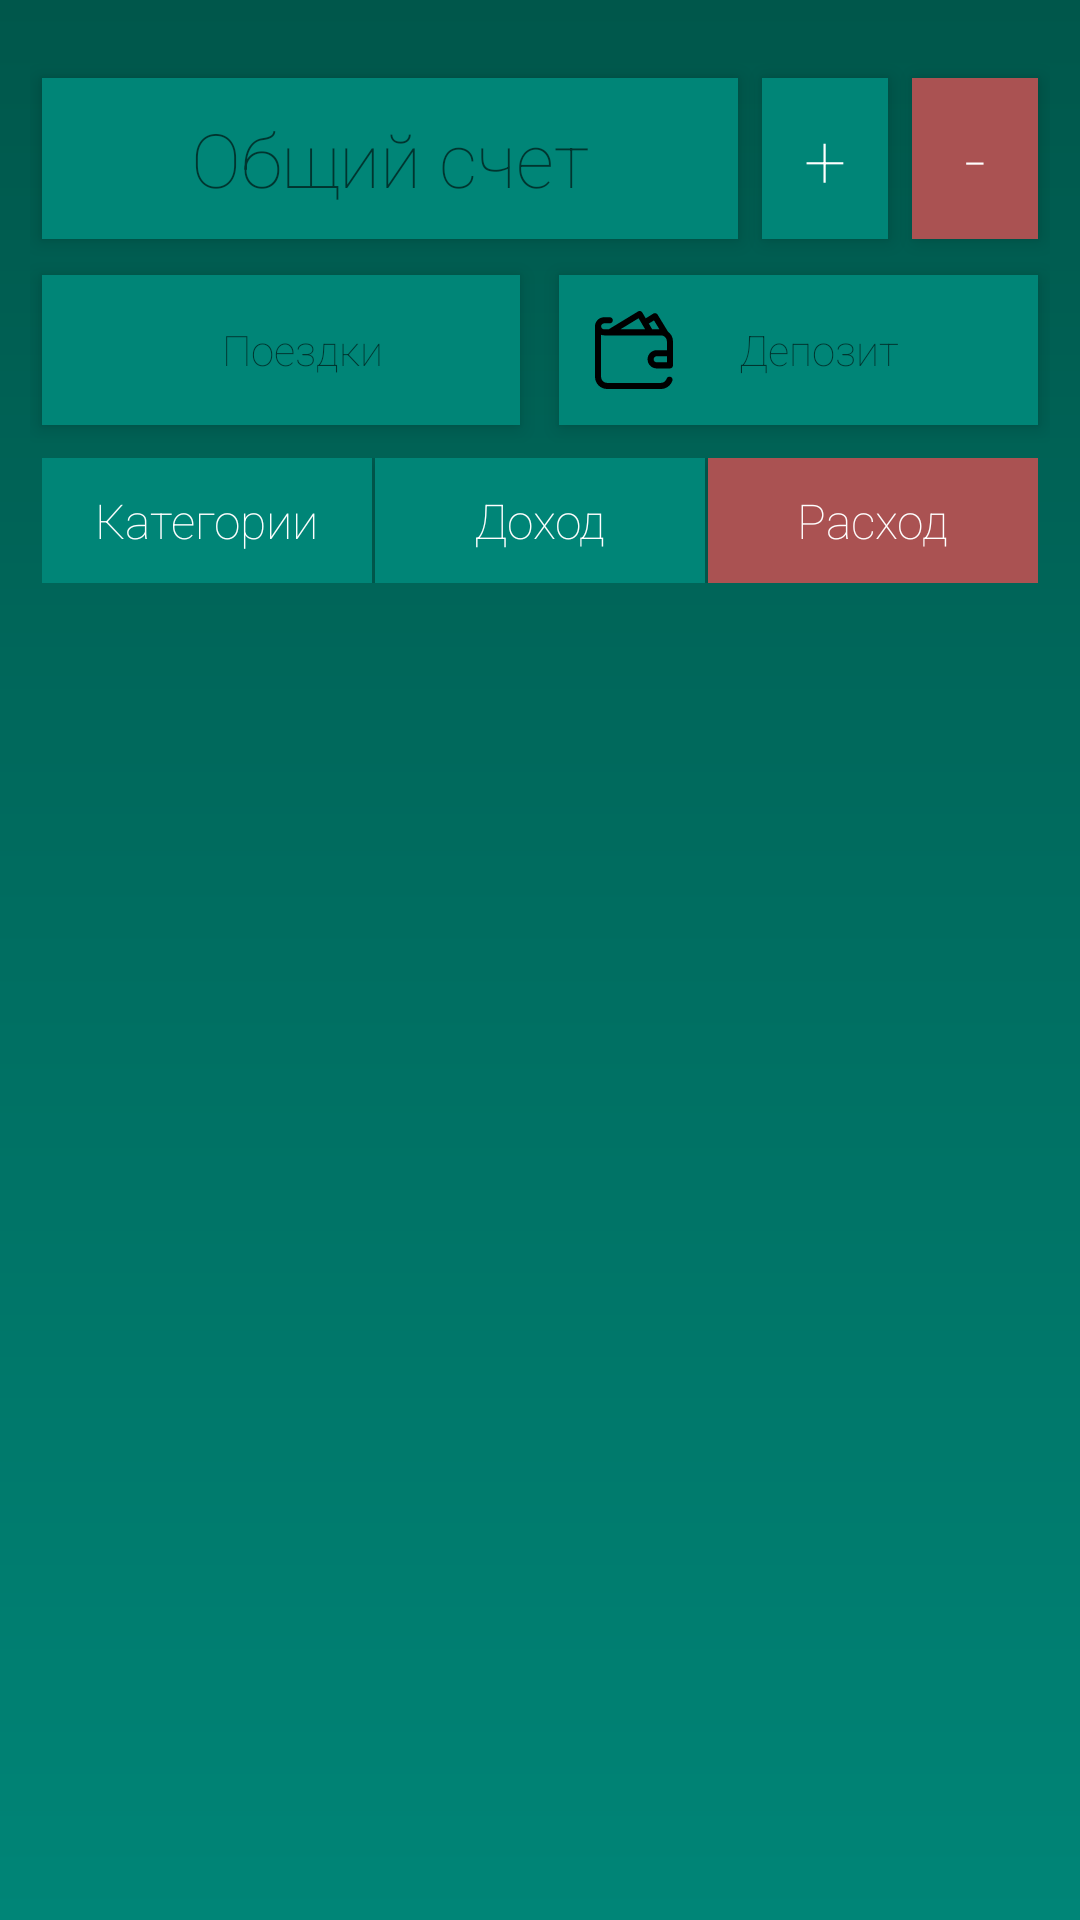

Where to tap for icons on this 1080×1920 app screen, as (x,y):
wallet: (634,350)
